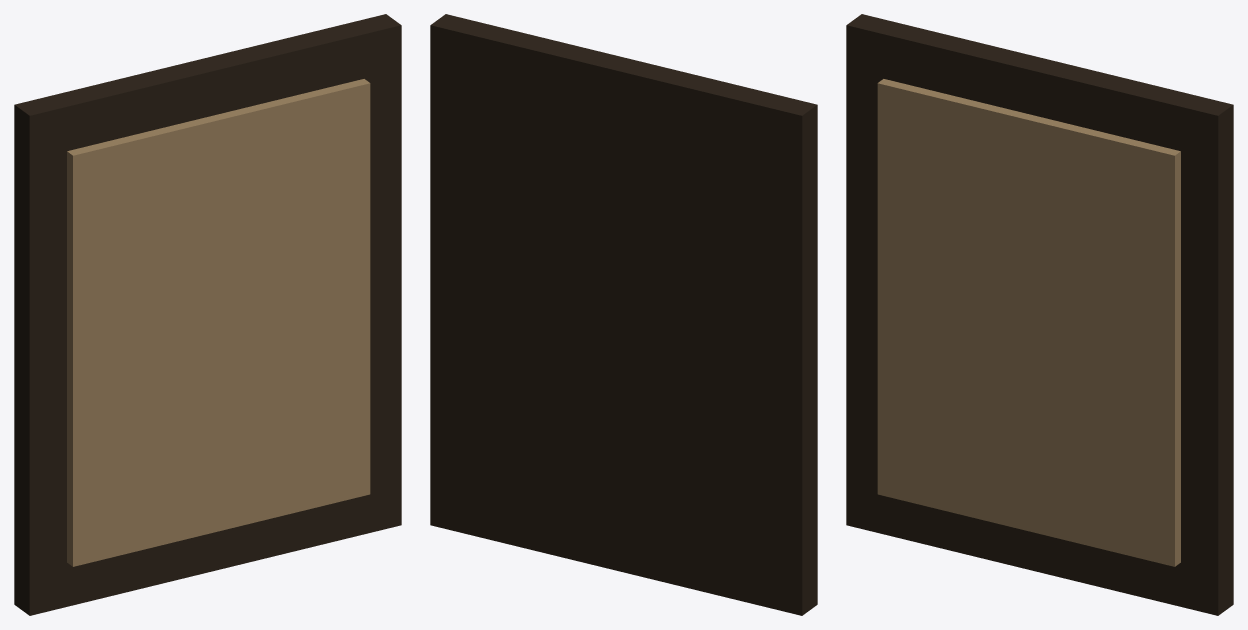
The model's file is Item_Photo.obj.
3 views of the same model, side by side, from view 1: azimuth 30°, elevation 25°; view 2: azimuth 150°, elevation 25°; view 3: azimuth 330°, elevation 25° (orthographic).
Size of the model in its own units: 0.7 by 0.9 by 0.07.
